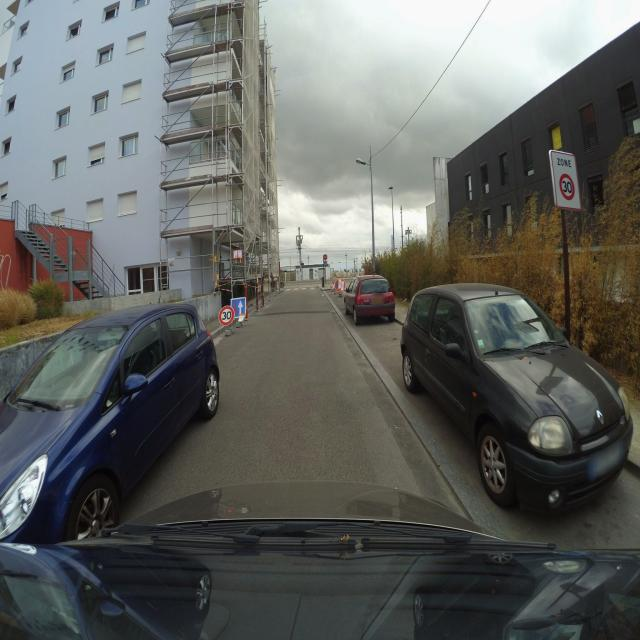bike: (286, 286, 320, 291)
car: (400, 281, 634, 514), (0, 300, 220, 542), (344, 274, 396, 324), (334, 278, 343, 294)
